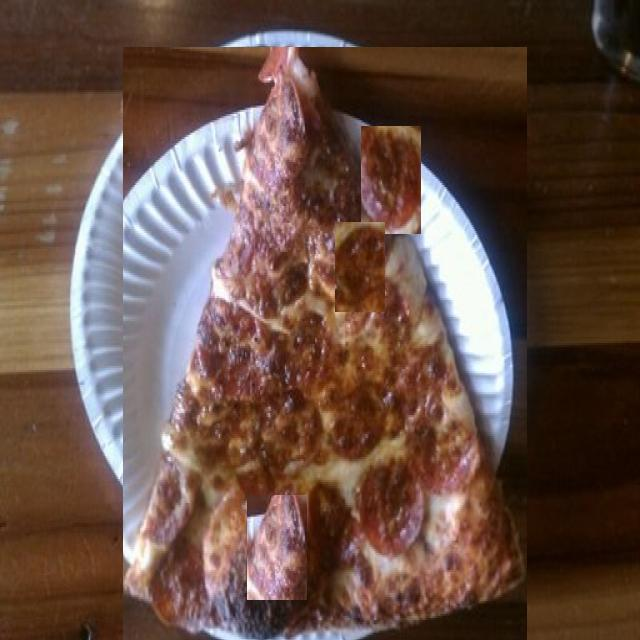pepperoni: (361, 126, 421, 234), (247, 496, 307, 602), (409, 184, 479, 270), (195, 296, 257, 386), (150, 62, 212, 147), (335, 222, 385, 312)
pizza: (123, 47, 527, 640)
